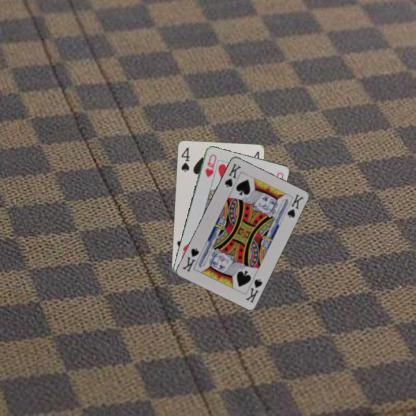4s: (178, 144, 190, 173)
Ks: (242, 276, 263, 303), (222, 161, 242, 188)
Qh: (202, 152, 218, 178)
